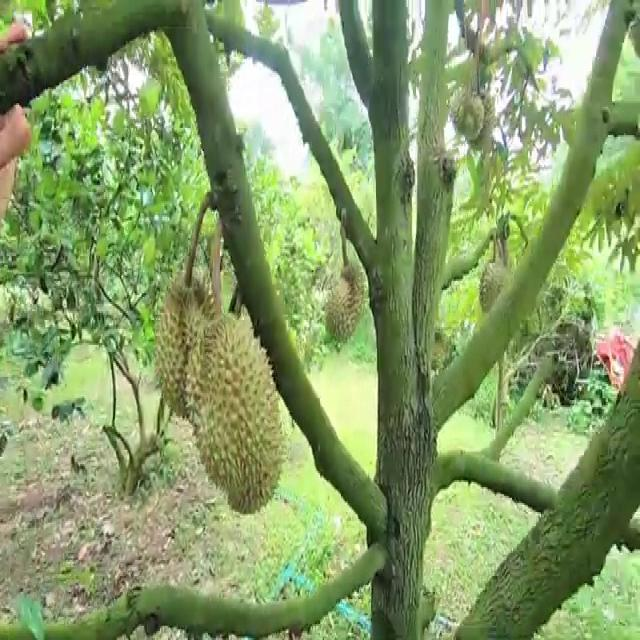durian: (186, 302, 284, 514), (150, 265, 221, 420), (319, 257, 369, 351), (478, 252, 518, 319), (458, 91, 486, 152)
